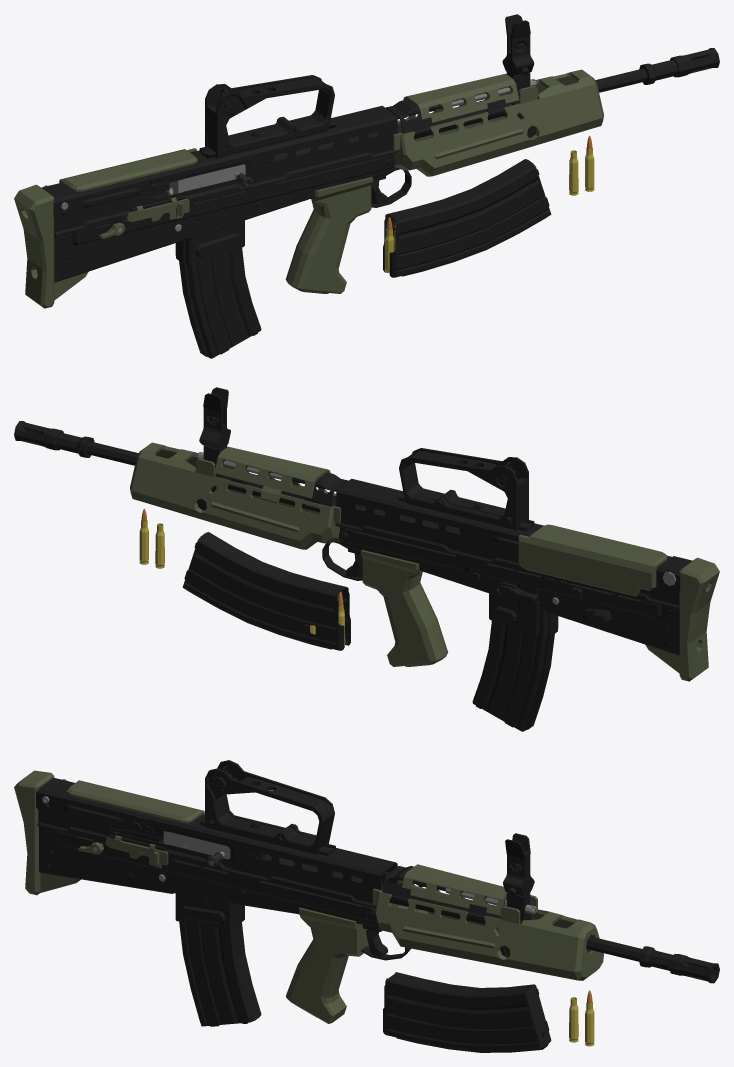
3 views of the same model, one above another, from view 1: azimuth 30°, elevation 25°; view 2: azimuth 150°, elevation 25°; view 3: azimuth 330°, elevation 25° (orthographic).
Visible parts, largest first — view 1: l85a1 lower_10, l85a1 upper_15, l81a1 handguard_4, 55645 ar15 30rnd mag (steel)_1, l85a1 iron sights_9, 55645 ar15 30rnd mag empty (steel)_2, l85a1 barrel_5, l85a1 flash hider_8, l85a1 bolt_6, l85a1 dust cover_7; view 2: l85a1 lower_10, l85a1 upper_15, l81a1 handguard_4, 55645 ar15 30rnd mag (steel)_1, l85a1 iron sights_9, 55645 ar15 30rnd mag empty (steel)_2, l85a1 barrel_5, l85a1 flash hider_8; view 3: l85a1 lower_10, l85a1 upper_15, l81a1 handguard_4, 55645 ar15 30rnd mag (steel)_1, l85a1 iron sights_9, 55645 ar15 30rnd mag empty (steel)_2, l85a1 barrel_5, l85a1 flash hider_8, l85a1 bolt_6, l85a1 dust cover_7.
Boxes of the visible parts, x1,y1,x2,y2 form: l85a1 lower_10: (14,155,411,308); l85a1 upper_15: (41,105,398,236); l81a1 handguard_4: (385,69,603,176); 55645 ar15 30rnd mag (steel)_1: (383,159,551,277); l85a1 iron sights_9: (205,14,534,157); 55645 ar15 30rnd mag empty (steel)_2: (179,197,261,358); l85a1 barrel_5: (245,68,647,190); l85a1 flash hider_8: (639,48,719,84); l85a1 bolt_6: (165,164,252,195); l85a1 dust cover_7: (126,195,189,221); l85a1 lower_10: (322,528,719,681); l85a1 upper_15: (335,478,692,609); l81a1 handguard_4: (130,442,348,549); 55645 ar15 30rnd mag (steel)_1: (182,532,350,650); l85a1 iron sights_9: (199,387,528,530); 55645 ar15 30rnd mag empty (steel)_2: (472,570,554,731); l85a1 barrel_5: (86,441,488,563); l85a1 flash hider_8: (14,421,94,457); l85a1 lower_10: (14,770,410,1023); l85a1 upper_15: (36,778,397,908); l81a1 handguard_4: (372,864,603,980); 55645 ar15 30rnd mag (steel)_1: (383,972,551,1052); l85a1 iron sights_9: (205,760,534,896); 55645 ar15 30rnd mag empty (steel)_2: (179,866,261,1026); l85a1 barrel_5: (256,852,642,961); l85a1 flash hider_8: (639,946,719,983); l85a1 bolt_6: (163,831,230,867); l85a1 dust cover_7: (105,834,168,868).
Size of the model in its own units: 7.7 by 2.78 by 0.7019.
